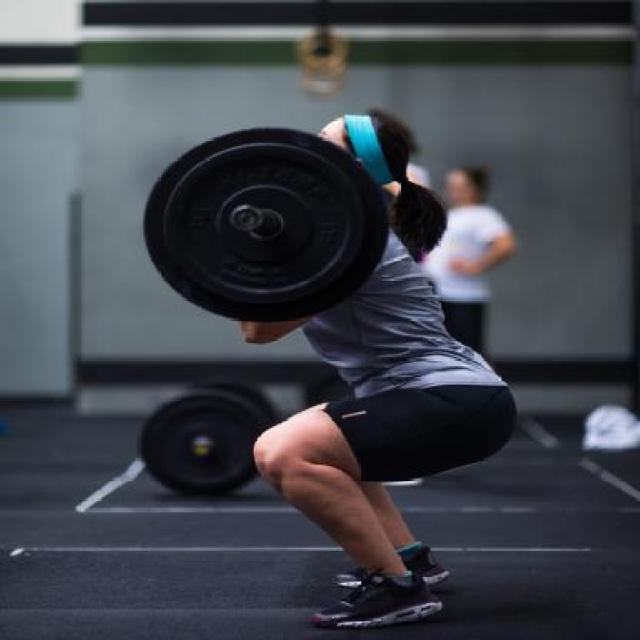barbell: (138, 120, 394, 324)
